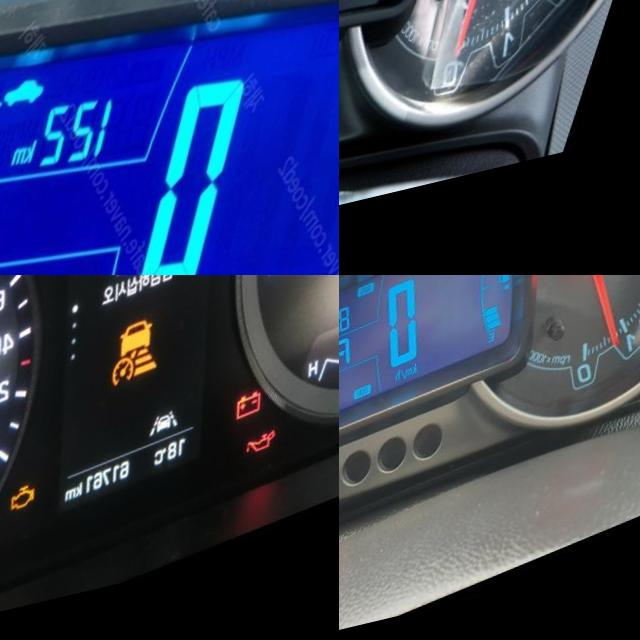LaneCenteringOff: (171, 420, 207, 454)
